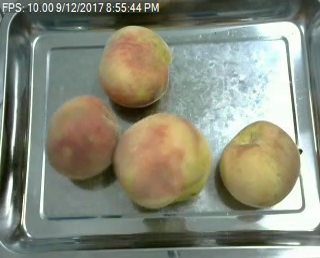Peach: (113, 111, 211, 207), (219, 119, 299, 208), (99, 24, 172, 107), (47, 95, 119, 179)
